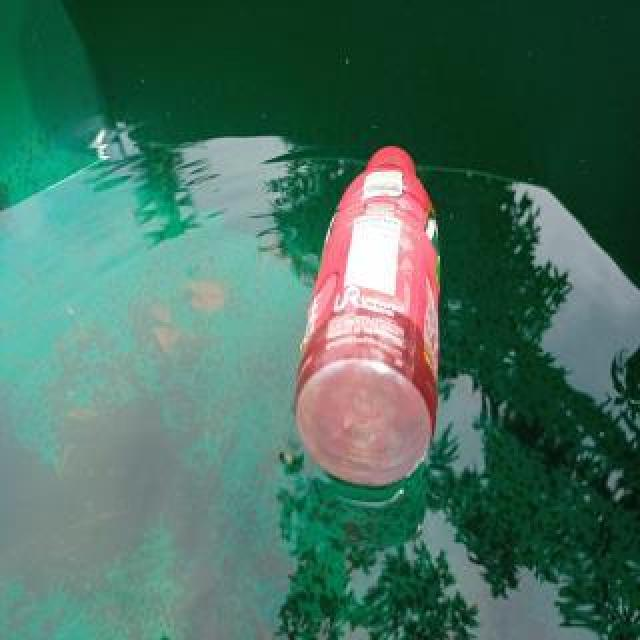bottle: (292, 137, 444, 491)
